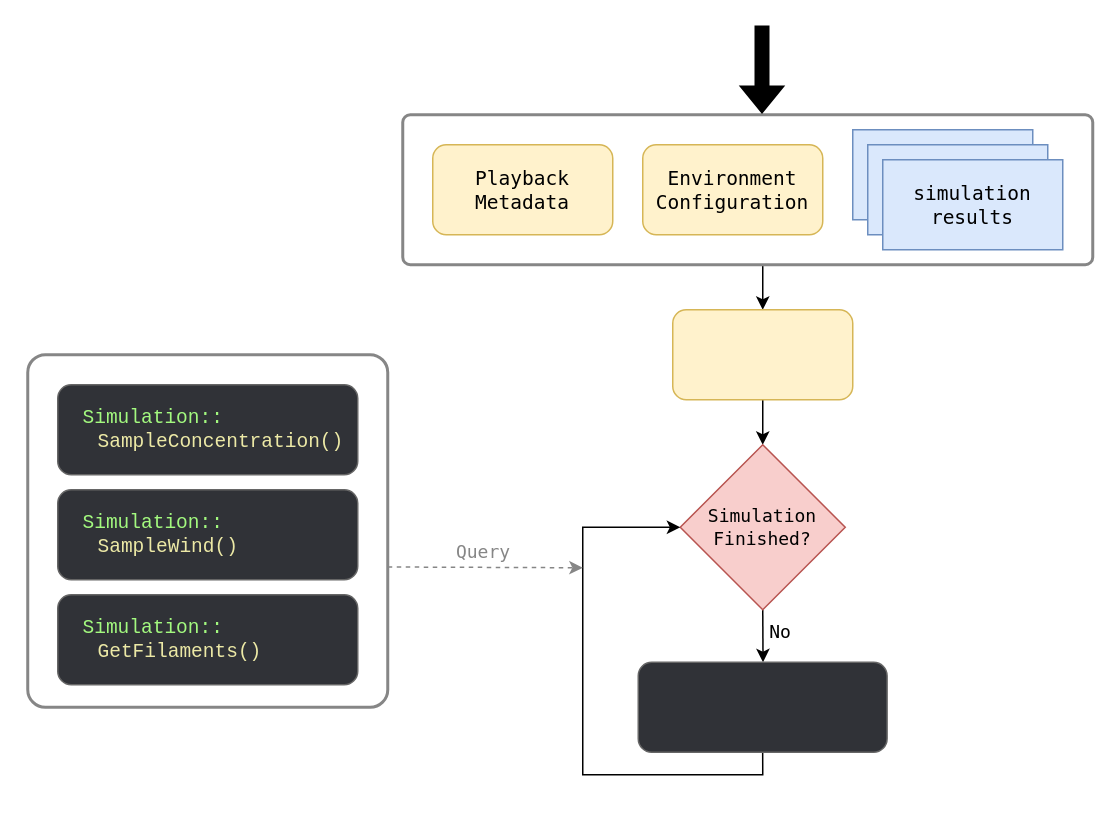
Some shapes in this 1119 by 813 pixel diagram are drawn without their labels. Each missing label, with the centre of its shape:
"Playback Simulation" goes at [762,354].
"Simulation :: AdvanceTimestep()" goes at [762,706].
